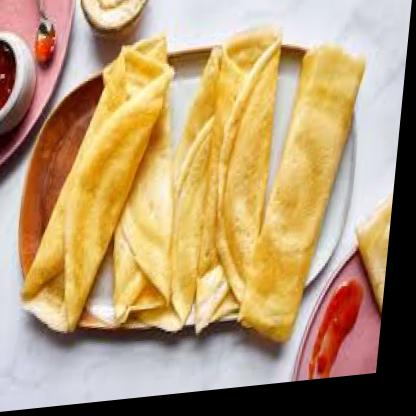dosa: (23, 45, 178, 338), (243, 48, 369, 353), (85, 37, 195, 331), (137, 51, 225, 340), (201, 33, 283, 339), (354, 205, 398, 330)
